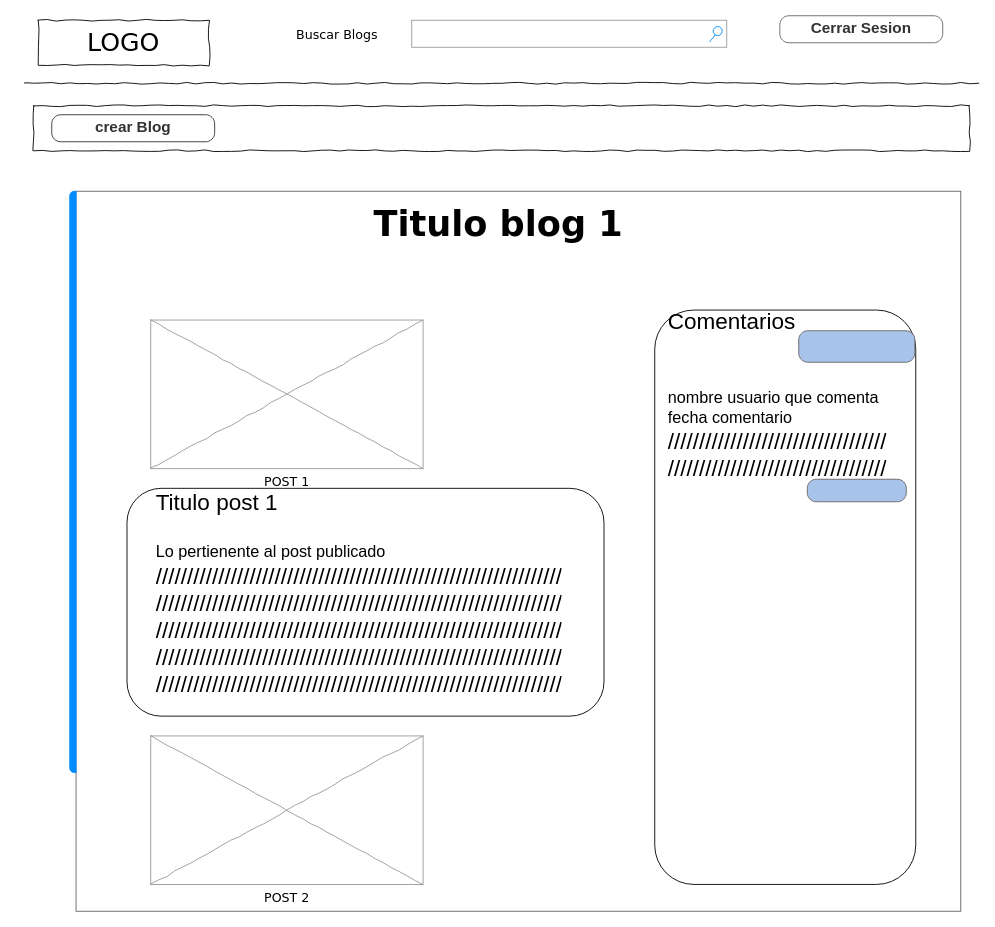
This 995x927 diagram has some shape labels left out. Each missing label, with the box of its shape:
Comentar: (798, 330, 915, 362)
Escriba palabras clave del blog que busca: (411, 19, 727, 47)
Responder: (806, 478, 906, 502)
